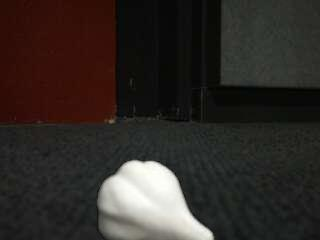Garlic: (94, 158, 218, 240)
